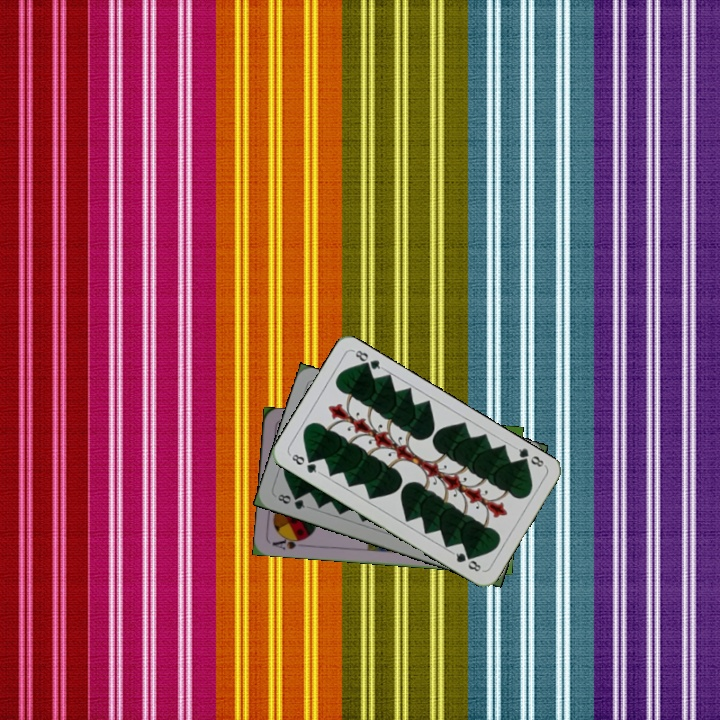G8: (511, 443, 548, 470), (286, 450, 323, 476), (273, 490, 308, 512)
SA: (268, 532, 309, 552)
